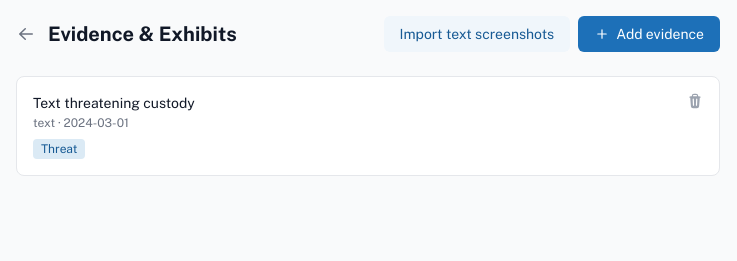
Evidence deletion › a failed delete shows an error and keeps the item in the list
Expected: the text "Text threatening custody" is shown, [33,95,195,111]
Step 1. Click the button named "remove evidence" → (695, 101), box [687,93,703,109]
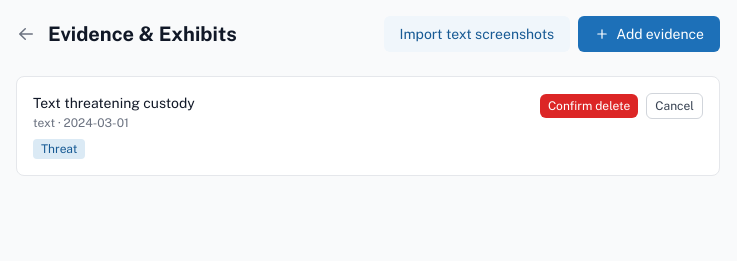
Step 2. Click the button "Confirm delete" → (589, 106), box [540,94,638,118]
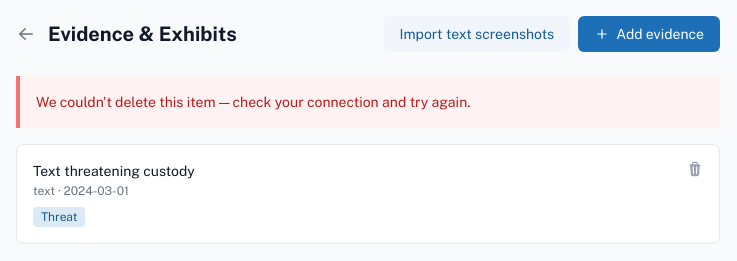
Expected: the text "Text threatening custody" is shown, [33,163,195,179]
Result: the text "couldn't delete" is shown at [36,94,470,110]
